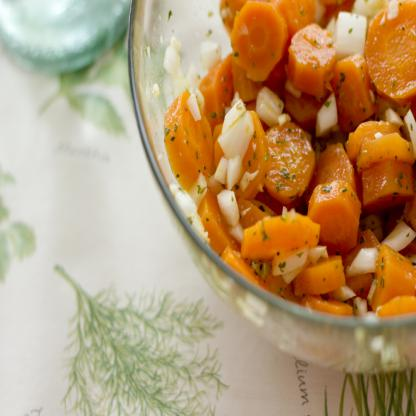Carrot: (166, 0, 414, 320), (239, 207, 323, 261)
